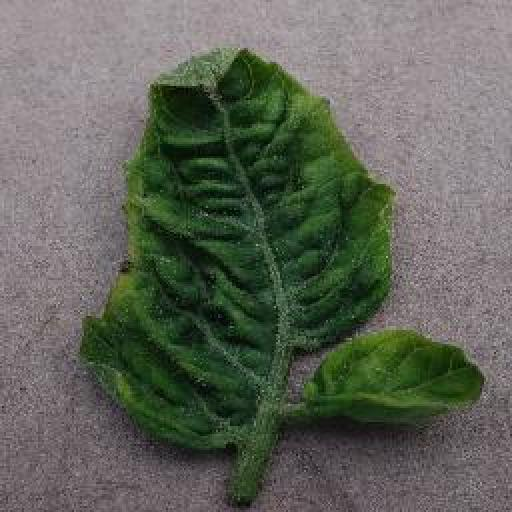disease_tomato: (82, 44, 396, 448), (316, 327, 487, 416)
